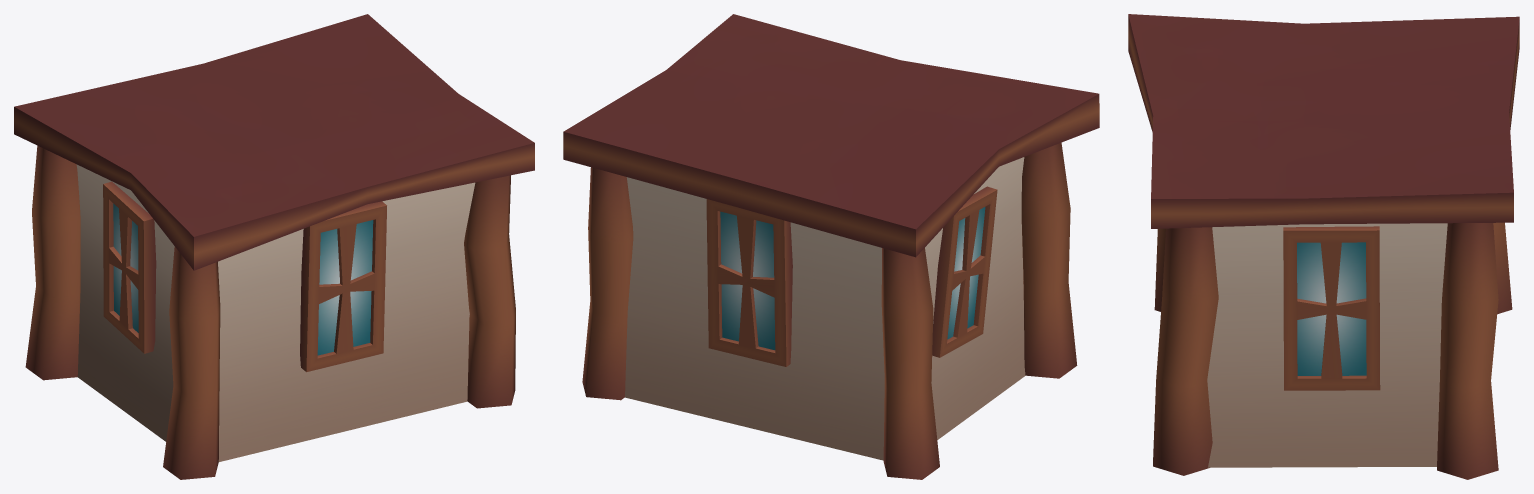
Rendered from FloorA03.fbx.
3 views of the same model, side by side, from view 1: azimuth 30°, elevation 25°; view 2: azimuth 150°, elevation 25°; view 3: azimuth 270°, elevation 25° (orthographic). The views are drawn at different scales.
Visible parts, largest first — view 1: FloorA03; view 2: FloorA03; view 3: FloorA03.
Part boxes in pixels (<box>): FloorA03: <box>14,14,534,479</box>; FloorA03: <box>563,14,1099,479</box>; FloorA03: <box>1128,14,1519,479</box>.
Size of the model in its own units: 470 by 334 by 414.
Materials: 1 (1 with a texture image).
